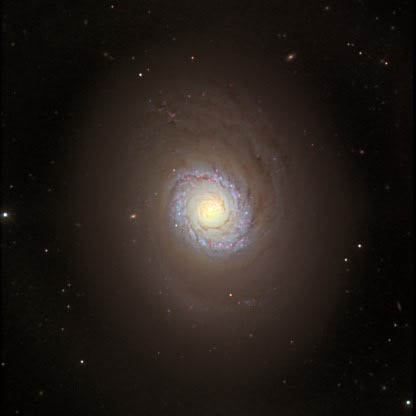Messier 94: (67, 48, 355, 377)
